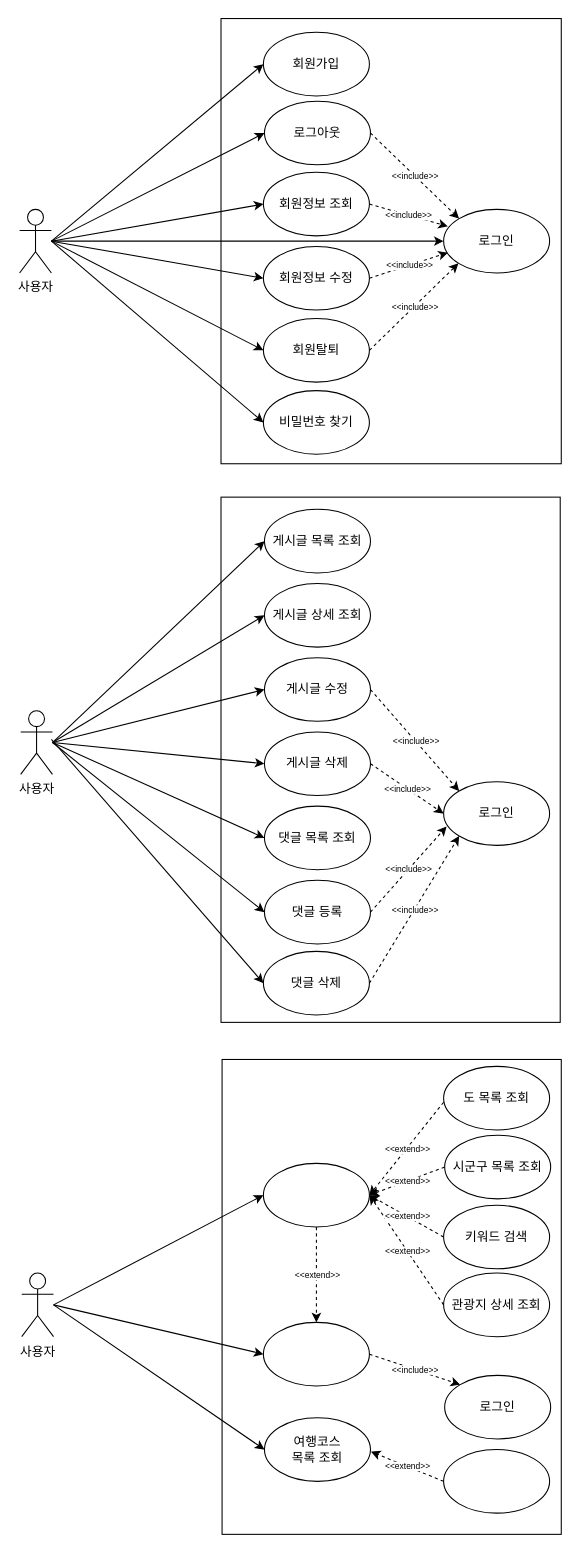
This 580x1553 diagram has some shape labels left out. Each missing label, with the centre of its shape:
여행코스 등록: the point at 315,1353
여행코스 상세 조회: the point at 496,1480
지도 조회: the point at 315,1194
